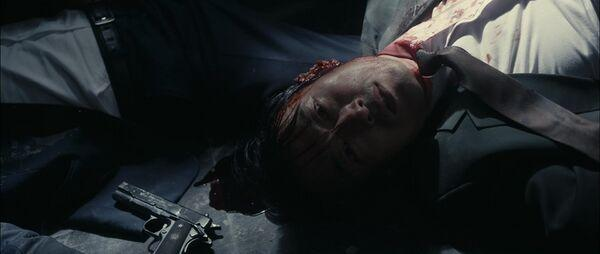Gun: (113, 181, 221, 254)
